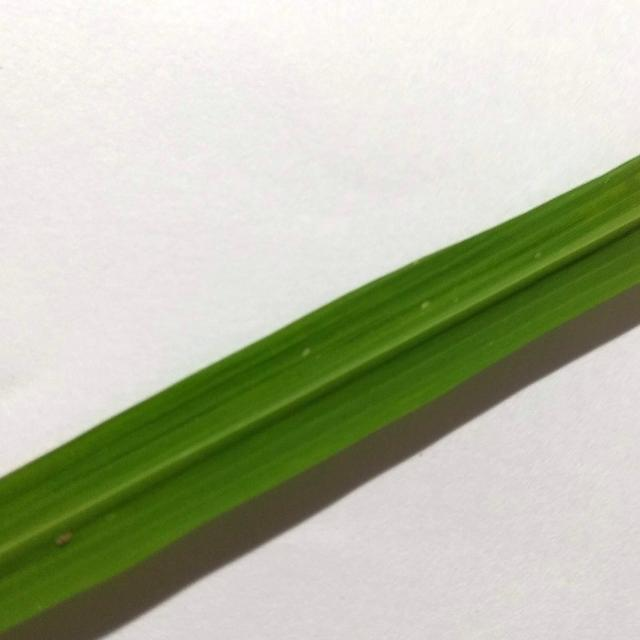Rice_Healthy: (0, 157, 640, 631)
